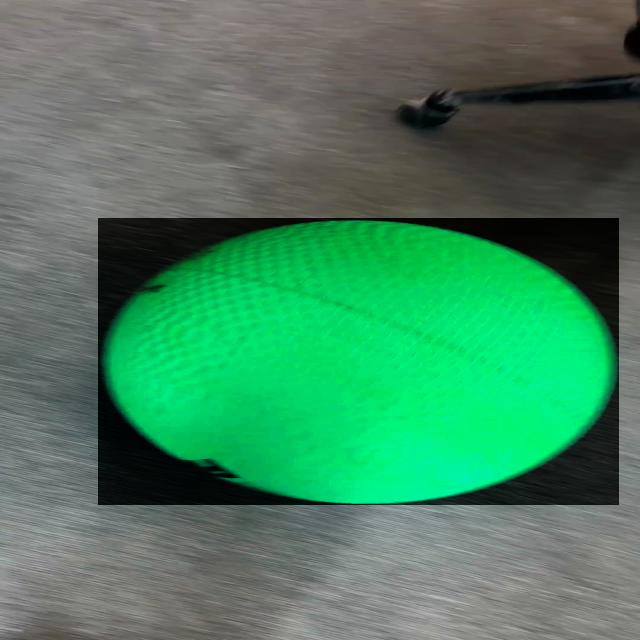Algae: (98, 218, 619, 505)
